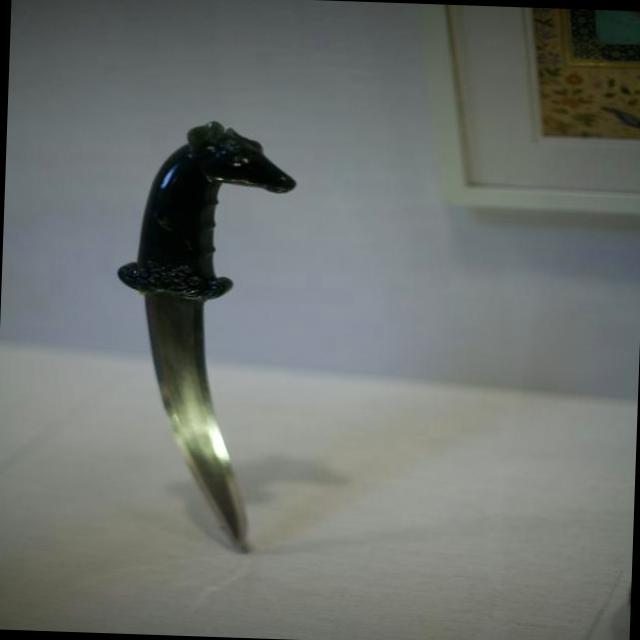Knife: (118, 122, 294, 550)
